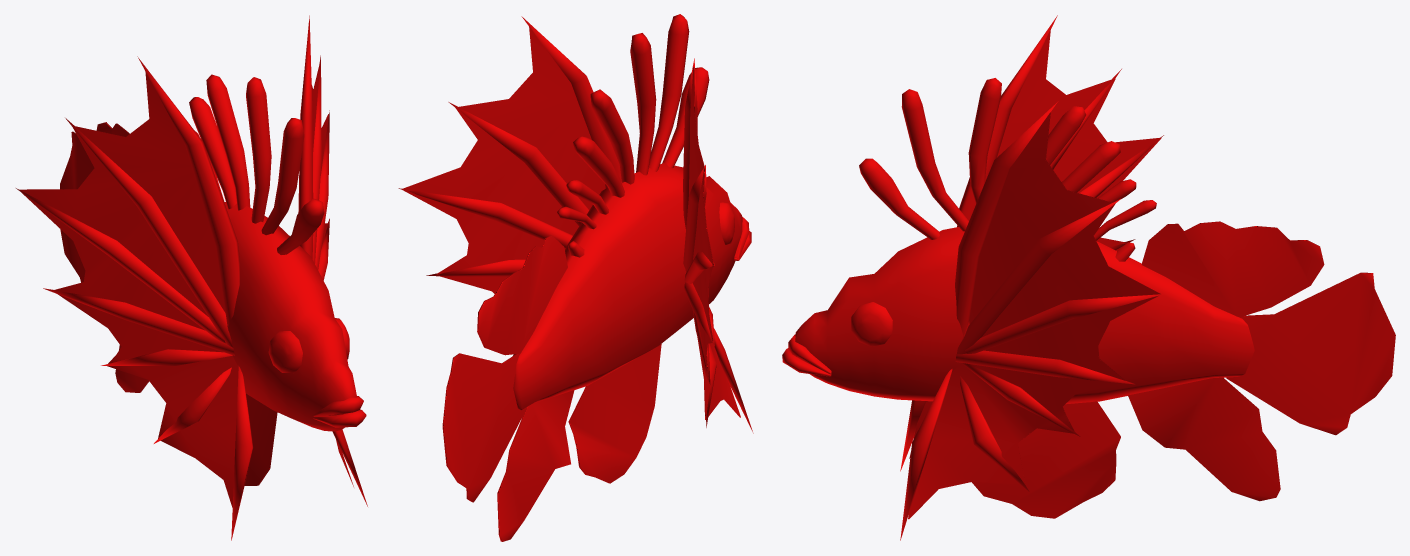
The picture shows the model from 3 angles, left to right: view 1: azimuth 30°, elevation 25°; view 2: azimuth 150°, elevation 25°; view 3: azimuth 270°, elevation 25°; orthographic projection. The views are drawn at different scales.
Parts seen in each view (by area): view 1: Fish_ZebraTurkeyFish; view 2: Fish_ZebraTurkeyFish; view 3: Fish_ZebraTurkeyFish.
Part boxes in pixels (<box>): Fish_ZebraTurkeyFish: <box>16,15,367,540</box>; Fish_ZebraTurkeyFish: <box>398,14,753,541</box>; Fish_ZebraTurkeyFish: <box>782,15,1395,540</box>.
Size of the model in its own units: 0.2706 by 0.3647 by 0.4403.
